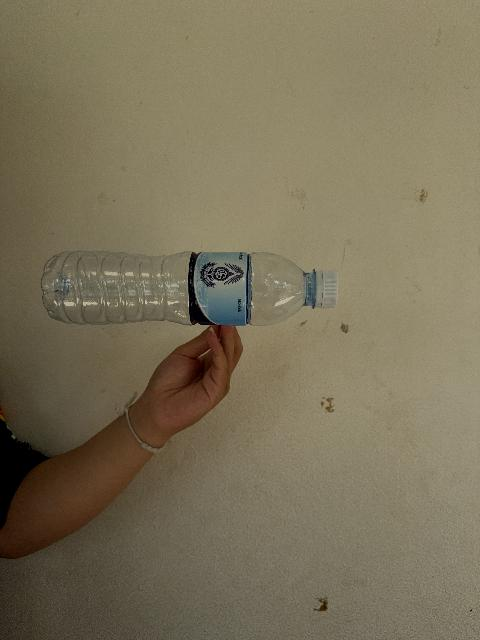bottle: (41, 252, 336, 325)
